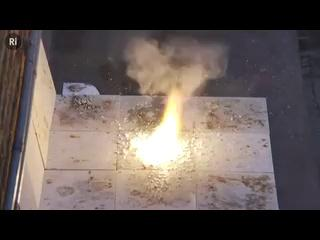Fire: (137, 65, 186, 167)
